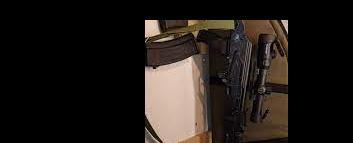larga: (196, 20, 279, 143)
